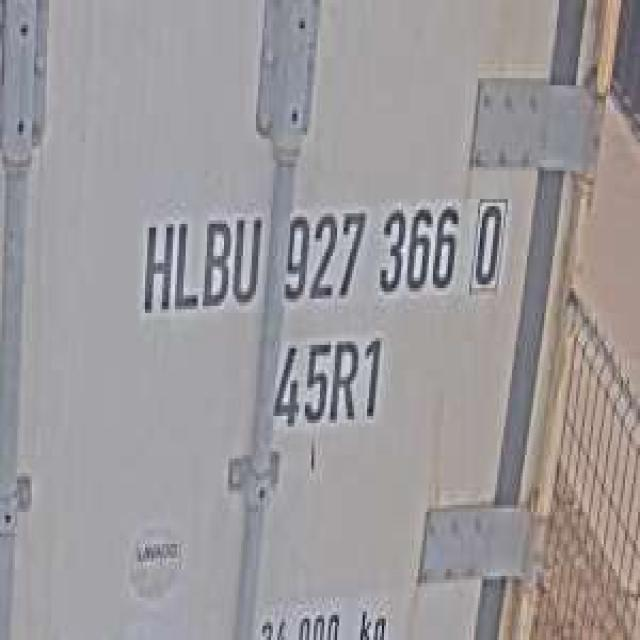dv: (467, 185, 510, 295)
owner: (134, 199, 264, 320)
serial: (277, 192, 459, 309)
size: (267, 327, 388, 430)
